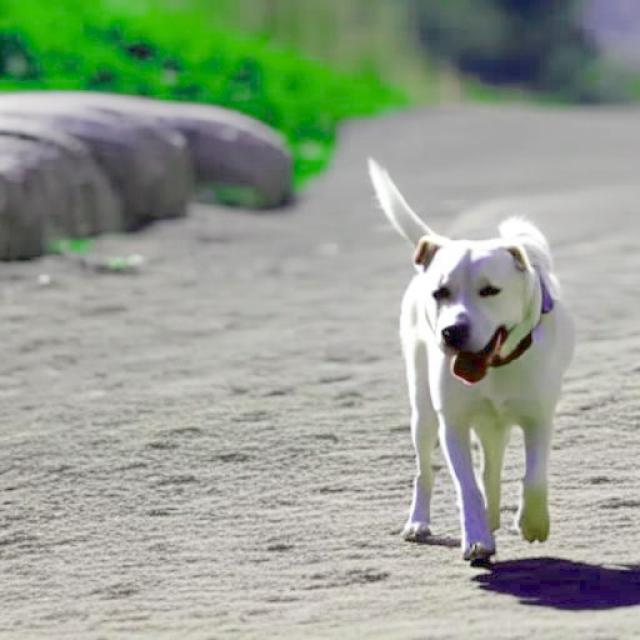Dog: (367, 155, 575, 562)
